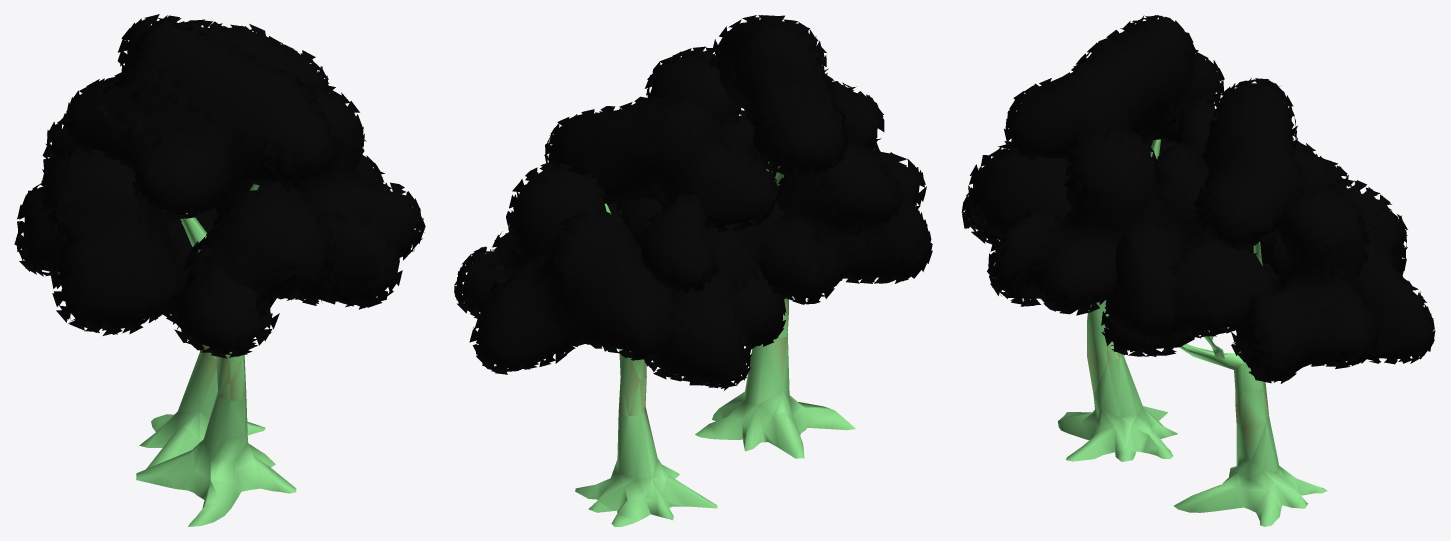
File: SM_ENV_LKNVLD_Tree_D_Lod1.gltf
3 renders of one model, left to right at view 1: azimuth 30°, elevation 25°; view 2: azimuth 150°, elevation 25°; view 3: azimuth 270°, elevation 25°, orthographic. The views are drawn at different scales.
Visible parts, largest first — view 1: SM_ENV_LKNVLD_Tree_D_Lod1; view 2: SM_ENV_LKNVLD_Tree_D_Lod1; view 3: SM_ENV_LKNVLD_Tree_D_Lod1.
Boxes of the visible parts, box(x1,y1,x2,y2) form: SM_ENV_LKNVLD_Tree_D_Lod1: box(14, 14, 425, 526); SM_ENV_LKNVLD_Tree_D_Lod1: box(454, 15, 932, 526); SM_ENV_LKNVLD_Tree_D_Lod1: box(961, 15, 1435, 526).
Size of the model in its own units: 12 by 14.84 by 14.26.
